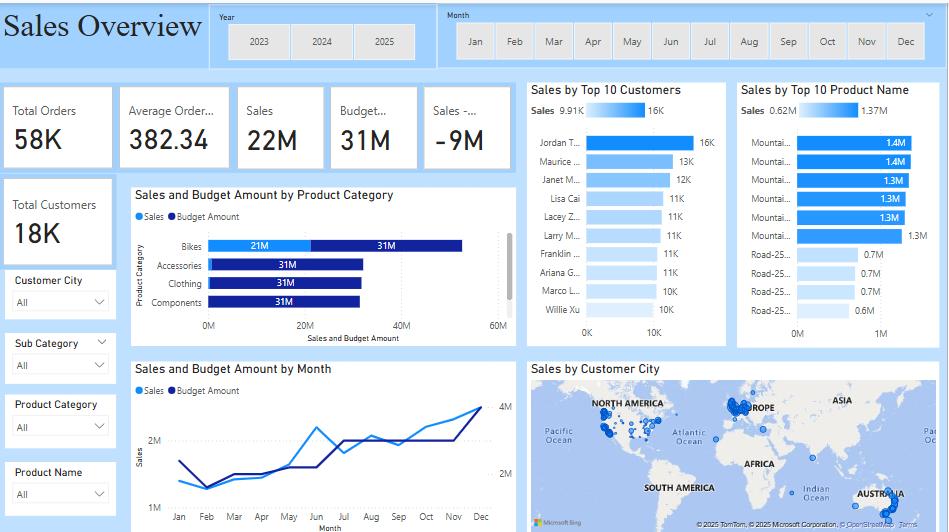

The dashboard page shown, as its layout file describes it:
{"tool":"powerbi","page":{"name":"Sales Overview","canvas":[1280,720],"ordinal":0},"visuals":[{"type":"textbox","box":[0,0,1280,88],"z":0},{"type":"slicer","fields":{"Values":["DIM_Customer.Customer City"]},"box":[0,368,158,68],"z":1000},{"type":"slicer","fields":{"Values":["DIM_Product.Sub Category"]},"box":[2,456,158,74],"z":2000},{"type":"slicer","fields":{"Values":["DIM_Product.Product Category"]},"box":[0,550,158,74],"z":3000},{"type":"slicer","fields":{"Values":["DIM_Product.Product Name"]},"box":[0,638,158,72],"z":4000},{"type":"slicer","fields":{"Values":["DIM_Calendar.Year"]},"box":[236,0,356,88],"z":5000},{"type":"slicer","fields":{"Values":["DIM_Calendar.MonthShort"]},"box":[592,0,688,88],"z":6000},{"type":"cardVisual","fields":{"Data":["FACT_InternetSales.Sales","FACT_Budget.Budget Amount","FACT_Budget.Sales - Budget"]},"box":[316,108,382,122],"z":7000},{"type":"barChart","fields":{"Category":["DIM_Product.Product Category"],"Y":["Measure Table.Sales","Measure Table.Budget Amount"]},"box":[178,250,520,214],"z":8000},{"type":"lineChart","fields":{"Category":["DIM_Calendar.MonthShort"],"Y":["Measure Table.Sales"],"Y2":["Measure Table.Budget Amount"]},"box":[178,484,520,236],"z":9000},{"type":"barChart","title":"Sales by Top 10 Customers","fields":{"Category":["DIM_Customer.Full Name"],"Y":["Measure Table.Sales"]},"box":[712,108,260,356],"z":10000},{"type":"barChart","title":"Sales by Top 10 Product Name","fields":{"Category":["DIM_Product.Product Name"],"Y":["Measure Table.Sales"]},"box":[988,106,292,358],"z":11000},{"type":"map","fields":{"Size":["Measure Table.Sales"],"Category":["DIM_Customer.Customer City"]},"box":[712,484,568,236],"z":12000},{"type":"cardVisual","fields":{"Data":["Measure Table.Total Orders","Measure Table.Average Order Value"]},"box":[0,108.3,316.7,121.7],"z":13000},{"type":"cardVisual","fields":{"Data":["Measure Table.Total Customers"]},"box":[0,230,158.3,128.3],"z":14000}]}

Visuals, with their boxes in screenshot pixels (x1, y1, x2, y2), scaled from the page's 1280x720 canvas onto the 949x532 screenshot:
textbox: <box>0,0,948,65</box>
slicer - DIM_Customer.Customer City: <box>0,272,117,322</box>
slicer - DIM_Product.Sub Category: <box>1,337,119,392</box>
slicer - DIM_Product.Product Category: <box>0,406,117,461</box>
slicer - DIM_Product.Product Name: <box>0,471,117,525</box>
slicer - DIM_Calendar.Year: <box>175,0,439,65</box>
slicer - DIM_Calendar.MonthShort: <box>439,0,948,65</box>
cardVisual - FACT_InternetSales.Sales x FACT_Budget.Budget Amount: <box>234,80,518,170</box>
barChart - DIM_Product.Product Category x Measure Table.Sales: <box>132,185,518,343</box>
lineChart - DIM_Calendar.MonthShort x Measure Table.Sales: <box>132,358,518,531</box>
"Sales by Top 10 Customers" barChart: <box>528,80,721,343</box>
"Sales by Top 10 Product Name" barChart: <box>733,78,948,343</box>
map - Measure Table.Sales x DIM_Customer.Customer City: <box>528,358,948,531</box>
cardVisual - Measure Table.Total Orders x Measure Table.Average Order Value: <box>0,80,235,170</box>
cardVisual - Measure Table.Total Customers: <box>0,170,117,265</box>
